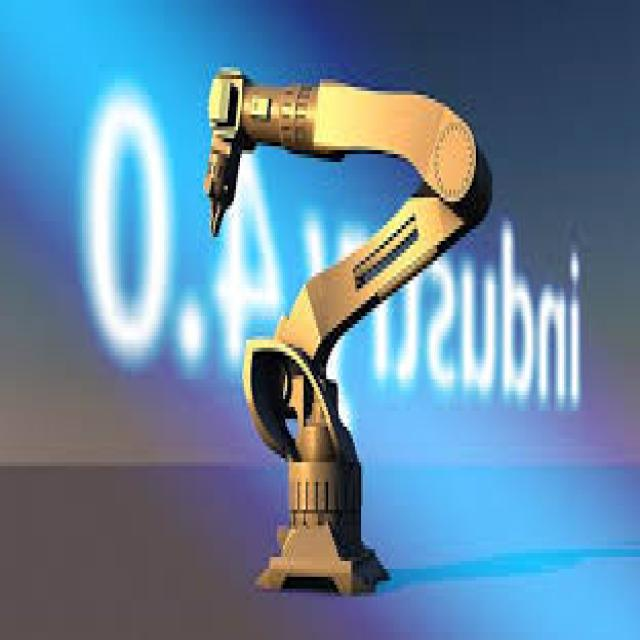Robotic-arm: (197, 55, 495, 606)
